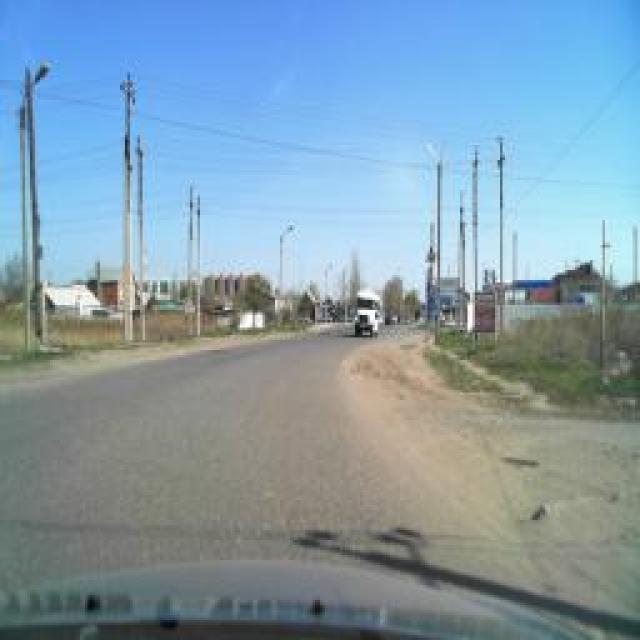sign: (425, 246, 437, 264)
